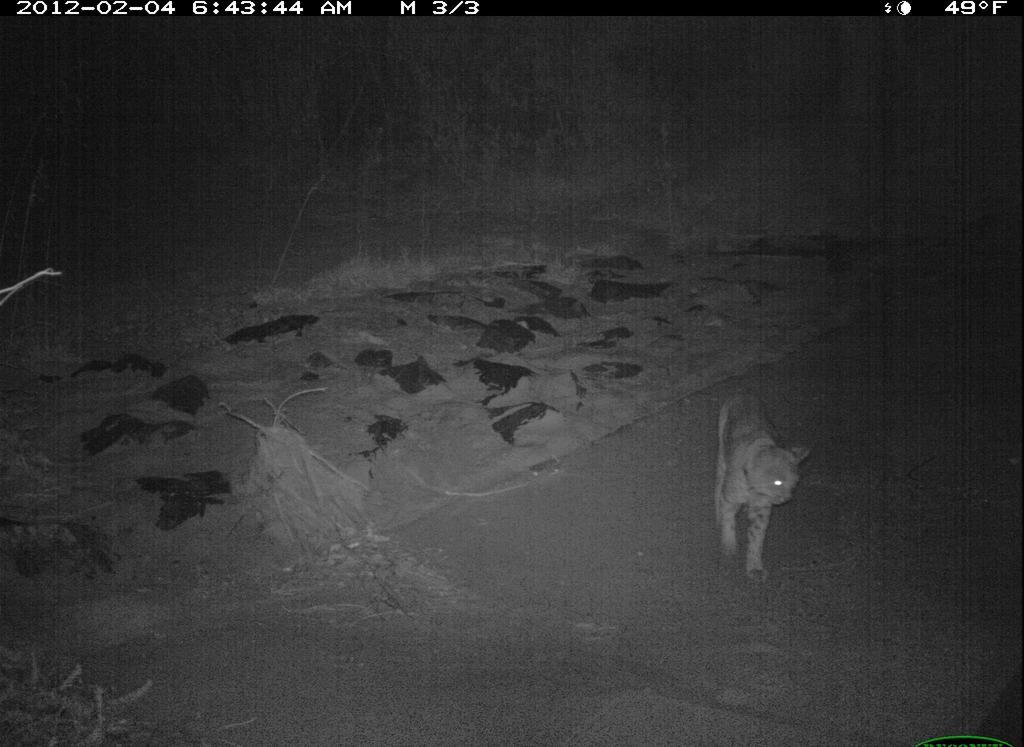bobcat: (705, 372, 818, 592)
